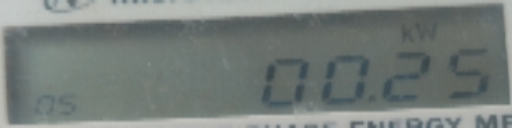0: (255, 49, 308, 110), (320, 48, 369, 106)
2: (382, 48, 429, 105)
5: (438, 39, 491, 105)
d: (366, 89, 382, 105)
